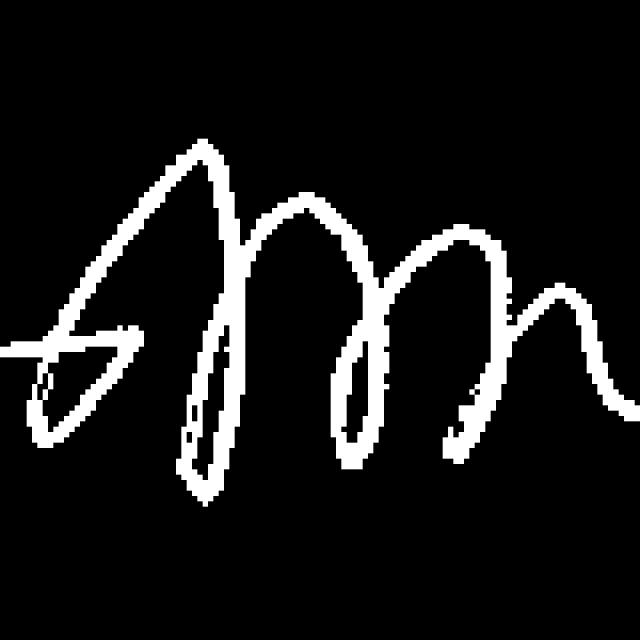inductor: (14, 125, 609, 524)
